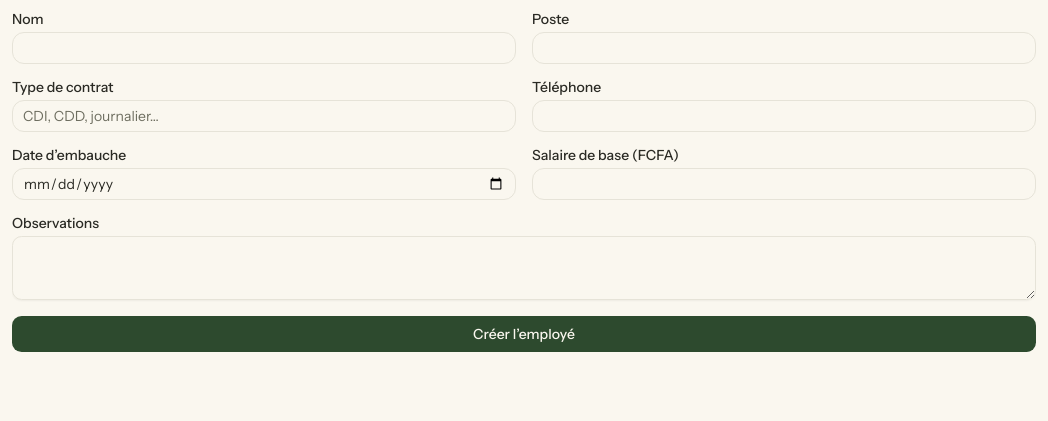
Test case: EmployeeForm (création) › affiche des erreurs de validation si les champs requis sont vides
Click the button "Créer l’employé": (524, 334) [12,316,1036,352]
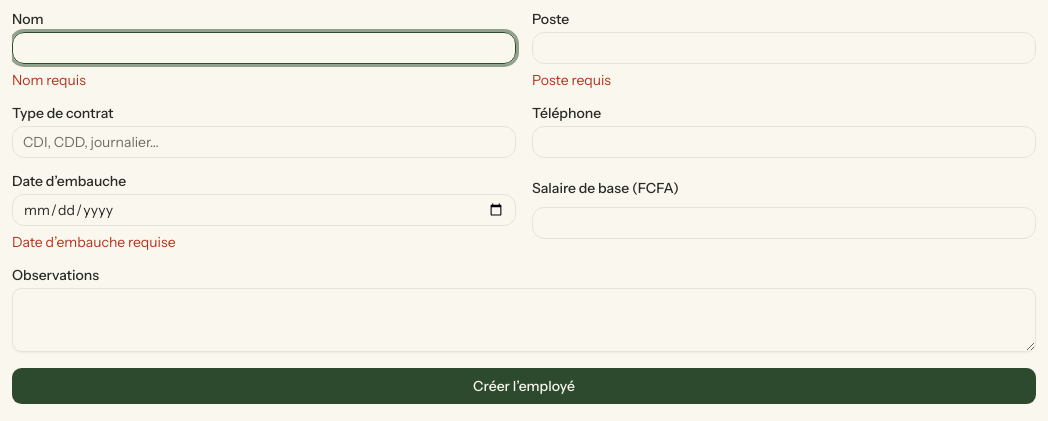
Result: the text "Nom requis" is shown at [12,71,86,89]
Result: the text "Poste requis" is shown at [532,71,611,89]
